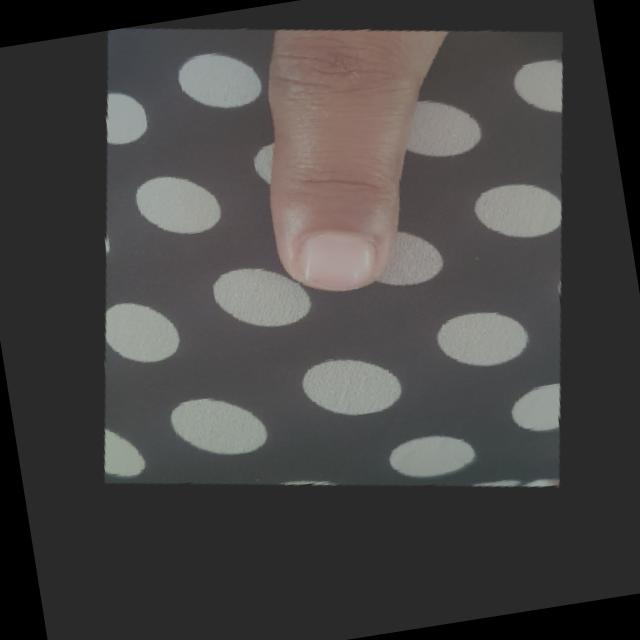Nail: (295, 234, 375, 289)
